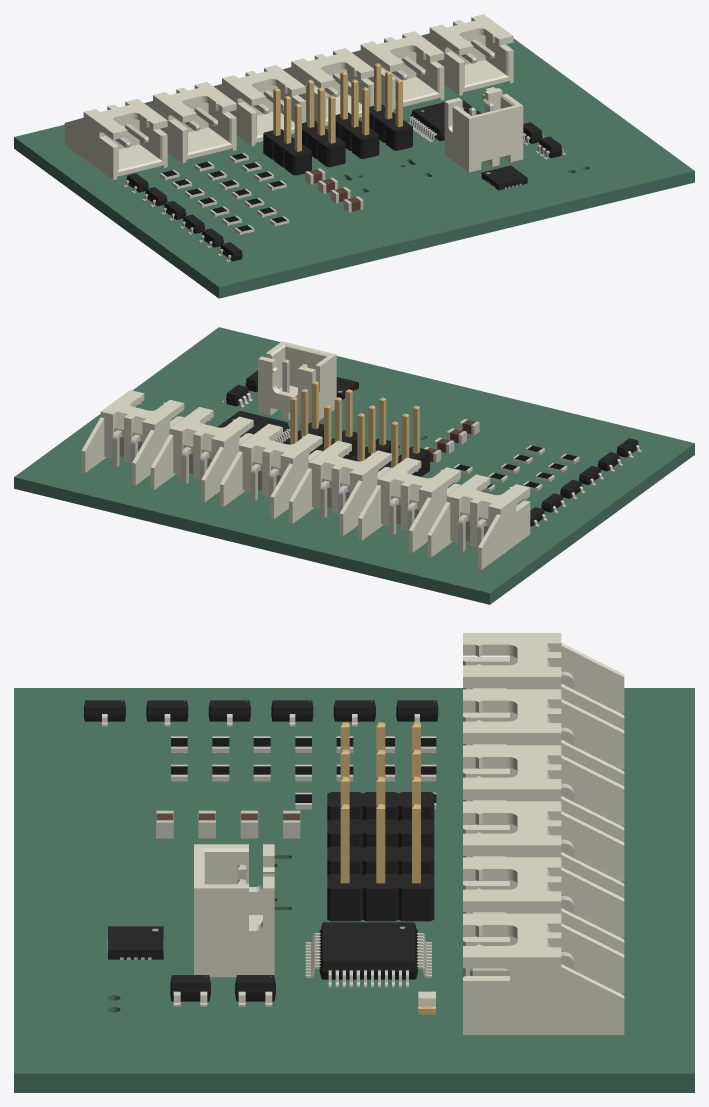
File: drone-pcb.glb
3 views of the same model, one above another, from view 1: azimuth 30°, elevation 25°; view 2: azimuth 150°, elevation 25°; view 3: azimuth 270°, elevation 25° (orthographic). The views are drawn at different scales.
Parts seen in each view (by area): view 1: =>[0:1:1:22], =>[0:1:1:5] (×6), =>[0:1:1:7] (×4), =>[0:1:1:17], =>[0:1:1:13], =>[0:1:1:19], =>[0:1:1:3]; view 2: =>[0:1:1:22], =>[0:1:1:5] (×6), =>[0:1:1:7] (×4), =>[0:1:1:17], =>[0:1:1:13], =>[0:1:1:3]; view 3: =>[0:1:1:22], =>[0:1:1:5] (×6), =>[0:1:1:7] (×4), =>[0:1:1:17], =>[0:1:1:13], =>[0:1:1:11] (×6), =>[0:1:1:3] (×2), =>[0:1:1:19].
Part boxes in pixels (x1=…): =>[0:1:1:22]: x1=14, y1=38, x2=694, y2=298; =>[0:1:1:5] (×6): x1=64, y1=14, x2=513, y2=180; =>[0:1:1:7] (×4): x1=263, y1=63, x2=412, y2=175; =>[0:1:1:17]: x1=444, y1=88, x2=523, y2=172; =>[0:1:1:13]: x1=408, y1=98, x2=481, y2=142; =>[0:1:1:19]: x1=481, y1=165, x2=527, y2=190; =>[0:1:1:3]: x1=535, y1=136, x2=565, y2=159; =>[0:1:1:22]: x1=14, y1=327, x2=694, y2=604; =>[0:1:1:5] (×6): x1=81, y1=390, x2=530, y2=569; =>[0:1:1:7] (×4): x1=282, y1=381, x2=429, y2=476; =>[0:1:1:17]: x1=258, y1=341, x2=336, y2=423; =>[0:1:1:13]: x1=217, y1=411, x2=290, y2=442; =>[0:1:1:3]: x1=222, y1=384, x2=252, y2=407; =>[0:1:1:22]: x1=14, y1=688, x2=694, y2=1092; =>[0:1:1:5] (×6): x1=463, y1=633, x2=624, y2=1034; =>[0:1:1:7] (×4): x1=327, y1=722, x2=434, y2=921; =>[0:1:1:17]: x1=194, y1=844, x2=274, y2=977; =>[0:1:1:13]: x1=305, y1=922, x2=431, y2=987; =>[0:1:1:11] (×6): x1=84, y1=700, x2=438, y2=726; =>[0:1:1:3] (×2): x1=170, y1=975, x2=275, y2=1006; =>[0:1:1:19]: x1=107, y1=926, x2=163, y2=959.
Size of the model in its own units: 0.065 by 0.0119 by 0.0485.
